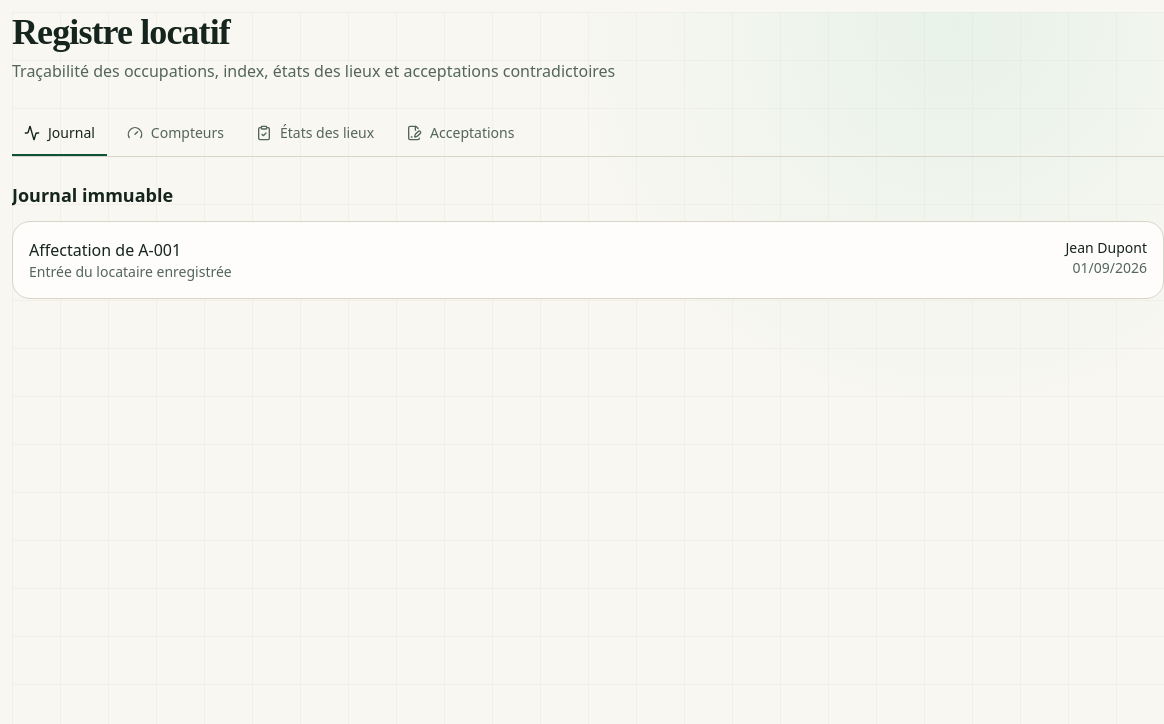
Test case: rental control plane › offers keyboard-accessible views for the complete rental ledger
This screenshot has width=1164, height=724.
Check: the text "Affectation de A-001" is shown, box [29,239,181,261]
Step 1. Click the tab "Compteurs" → (175, 134), box [115,112,236,156]
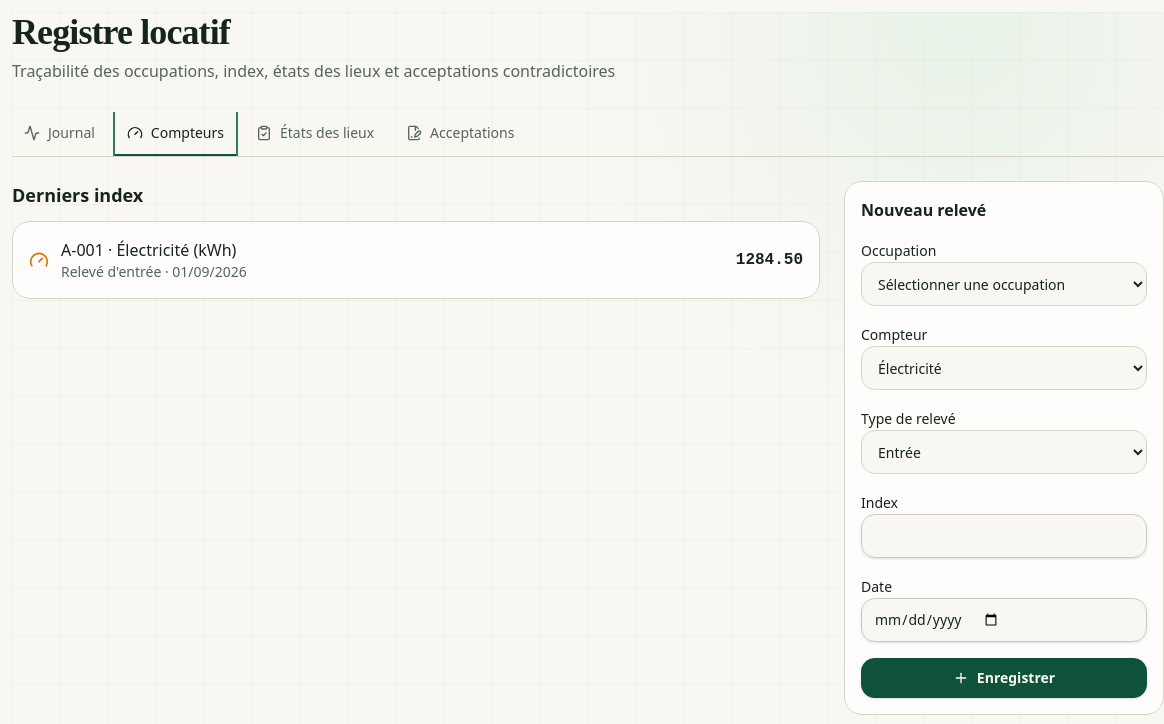
Check: the text "1284.50" is shown, box [736,248,803,272]
Step 2. Click the tab "États des lieux" → (315, 134), box [244,112,386,156]
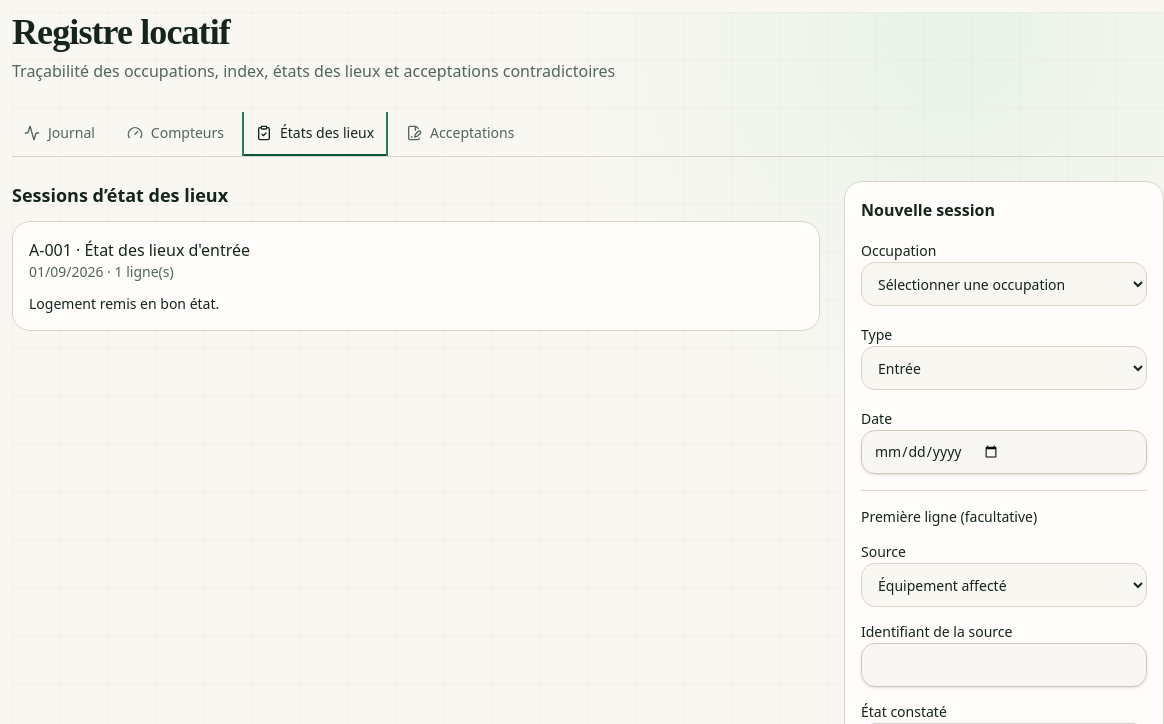
Check: the text "Logement remis en bon état." is shown, box [29,294,219,313]
Step 3. Click the tab "Acceptations" → (460, 134), box [394,112,526,156]
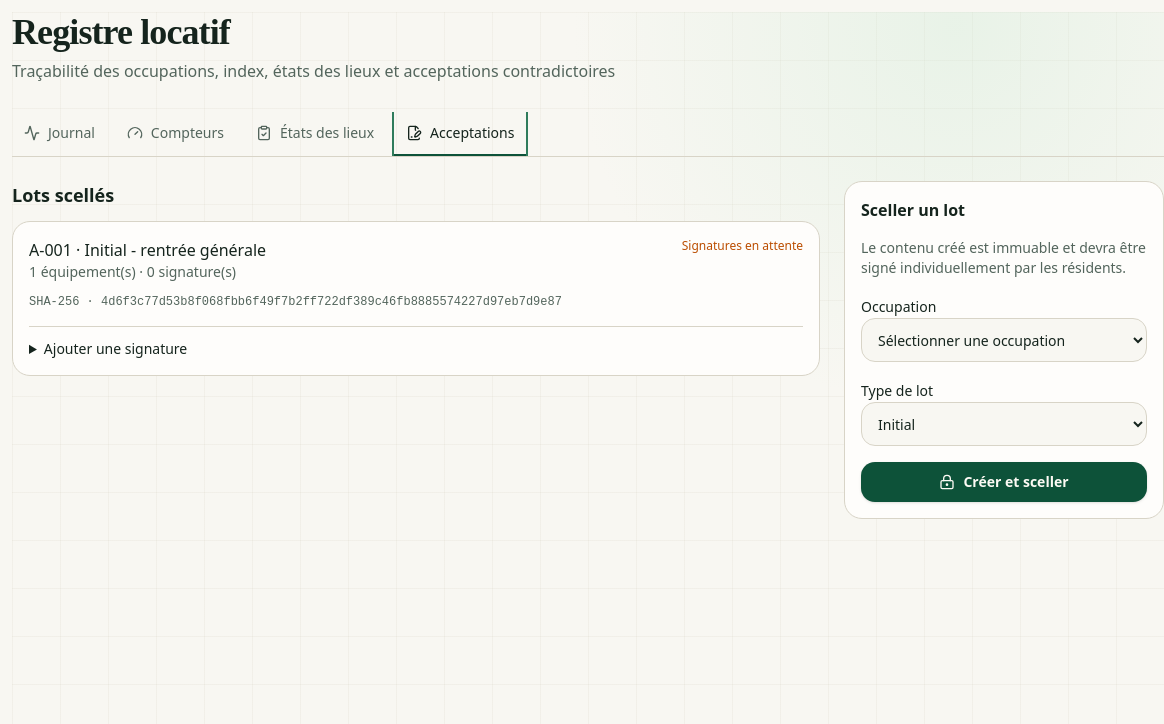
Check: the text "Signatures en attente" is shown, box [682,237,803,254]
Check: the heading "Ajouter une signature" is shown, box [44,339,187,358]
